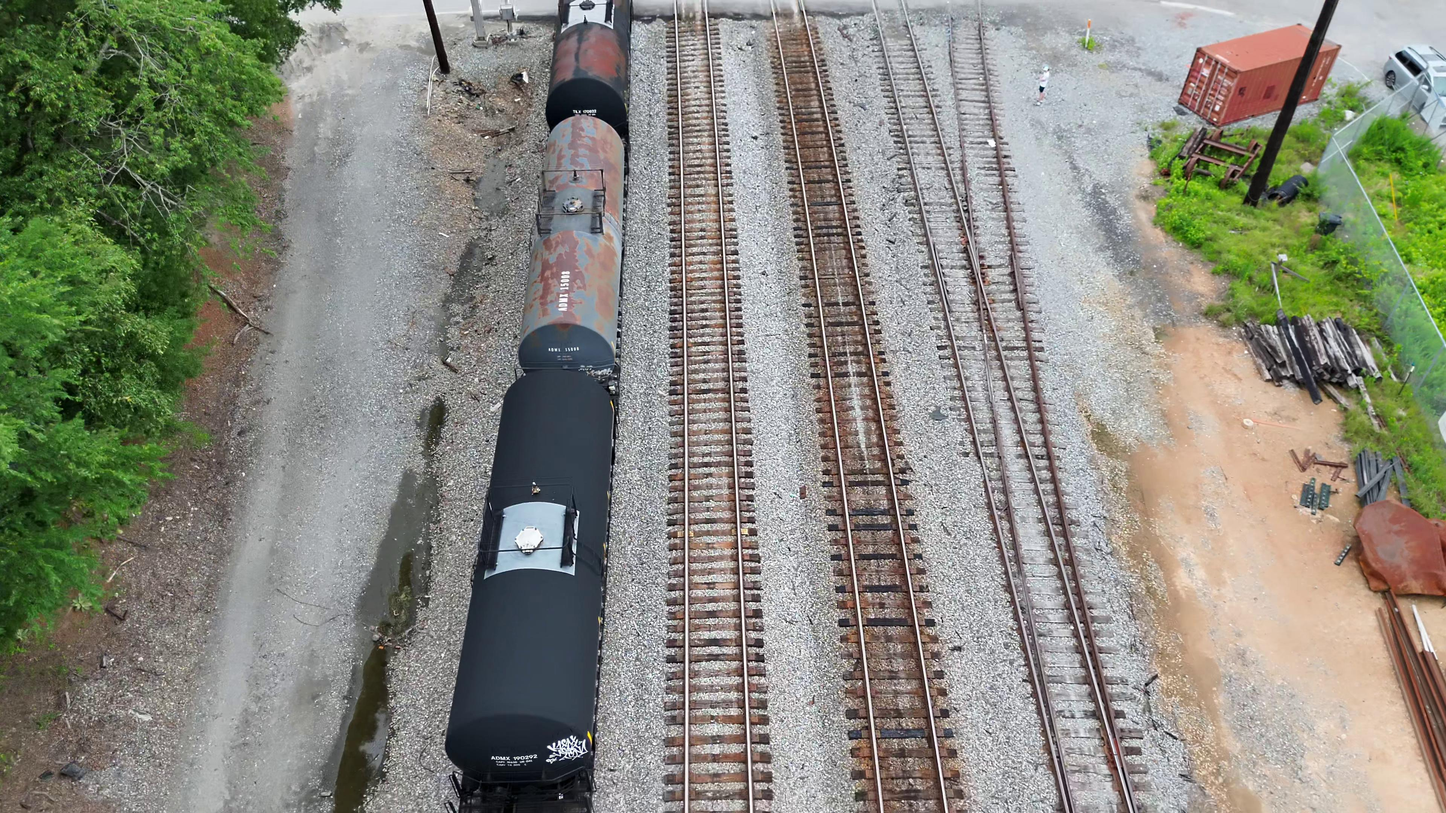human: (1033, 66, 1050, 106)
